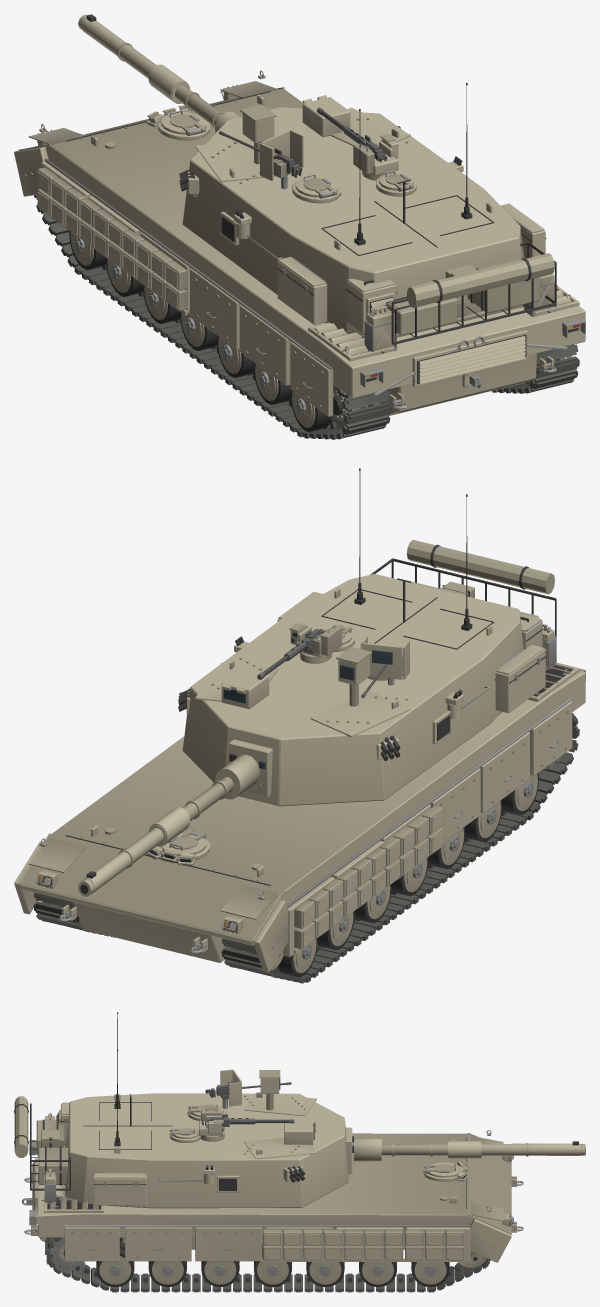
Rendered from usa_mbt_s3.glb.
3 views of the same model, one above another, from view 1: azimuth 30°, elevation 25°; view 2: azimuth 150°, elevation 25°; view 3: azimuth 270°, elevation 25° (orthographic). The views are drawn at different scales.
Parts seen in each view (by area): view 1: body, turret, barrel; view 2: body, turret, barrel; view 3: body, turret, barrel.
Part boxes in pixels (x1,y1,x2,y2): body: (14, 70, 585, 439); turret: (179, 83, 556, 344); barrel: (78, 14, 240, 132); body: (14, 624, 585, 983); turret: (178, 468, 556, 806); barrel: (78, 754, 259, 896); body: (21, 1113, 523, 1292); turret: (14, 1012, 354, 1208); barrel: (354, 1138, 585, 1161).
Bounding box in the file's own units: 3.68 × 4.09 × 9.58.
